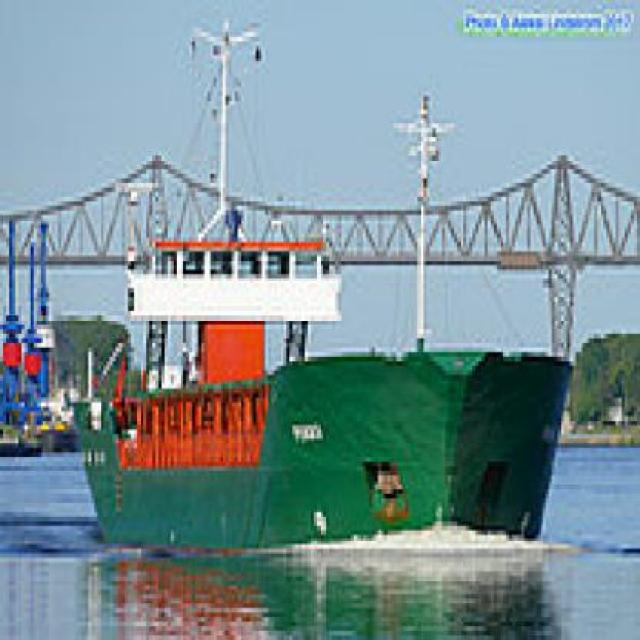container: (71, 5, 580, 572)
